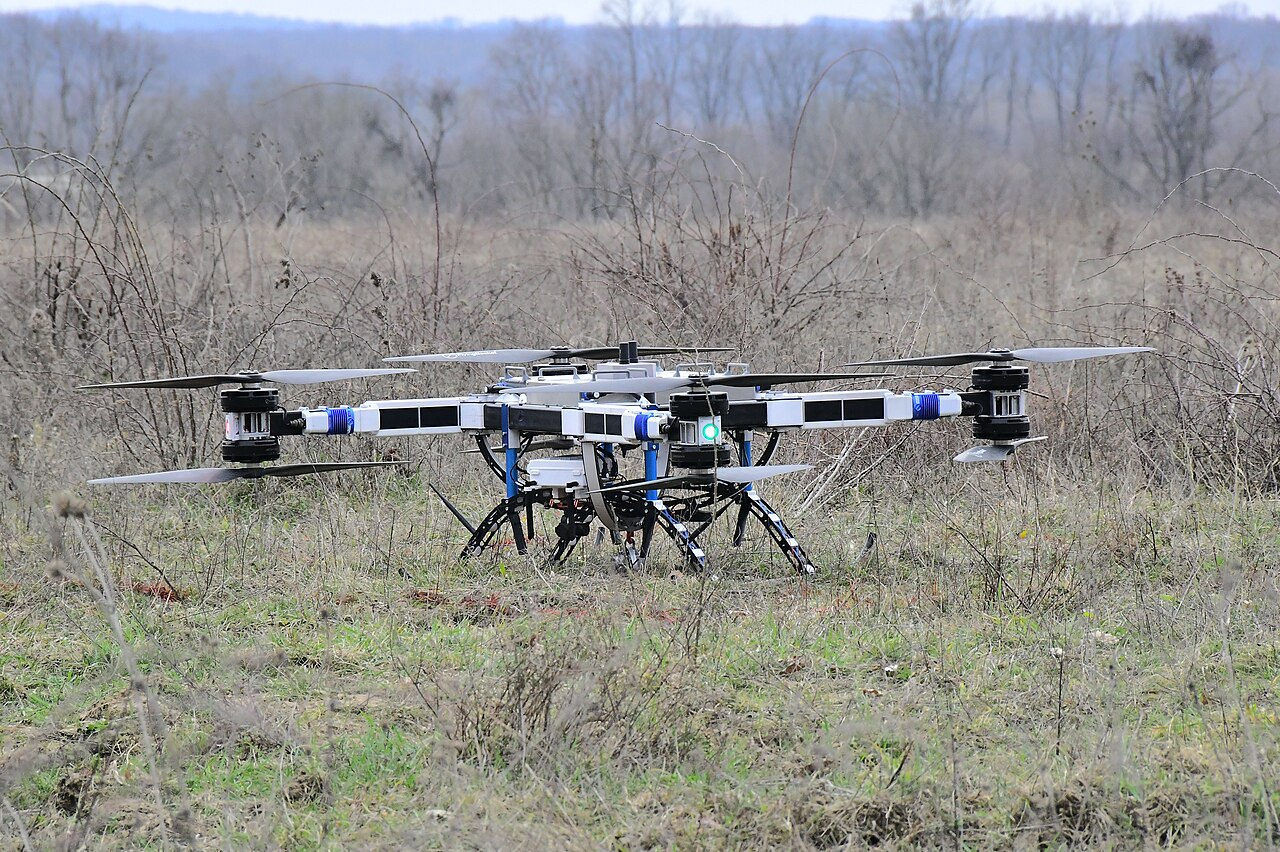drone: (77, 328, 1158, 567)
